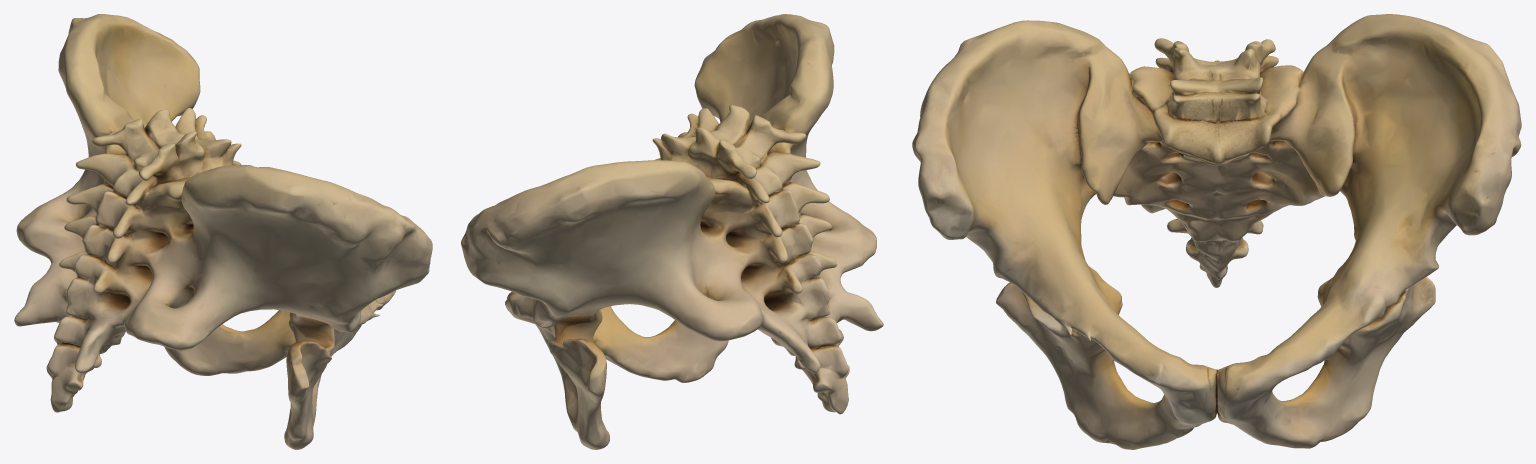
The model's file is pelvis.glb.
The picture shows the model from 3 angles, left to right: view 1: azimuth 30°, elevation 25°; view 2: azimuth 150°, elevation 25°; view 3: azimuth 270°, elevation 25°; orthographic projection. The views are drawn at different scales.
Parts seen in each view (by area): view 1: tripo_node_7829adc9-a2d7-4005-a5c8-4673e08a487d; view 2: tripo_node_7829adc9-a2d7-4005-a5c8-4673e08a487d; view 3: tripo_node_7829adc9-a2d7-4005-a5c8-4673e08a487d.
Part boxes in pixels (x1,y1,x2,y2): tripo_node_7829adc9-a2d7-4005-a5c8-4673e08a487d: (14, 14, 432, 449); tripo_node_7829adc9-a2d7-4005-a5c8-4673e08a487d: (461, 14, 883, 449); tripo_node_7829adc9-a2d7-4005-a5c8-4673e08a487d: (912, 14, 1521, 449).
Size of the model in its own units: 0.7023 by 0.687 by 0.9998.
1 material, 1 textured.
